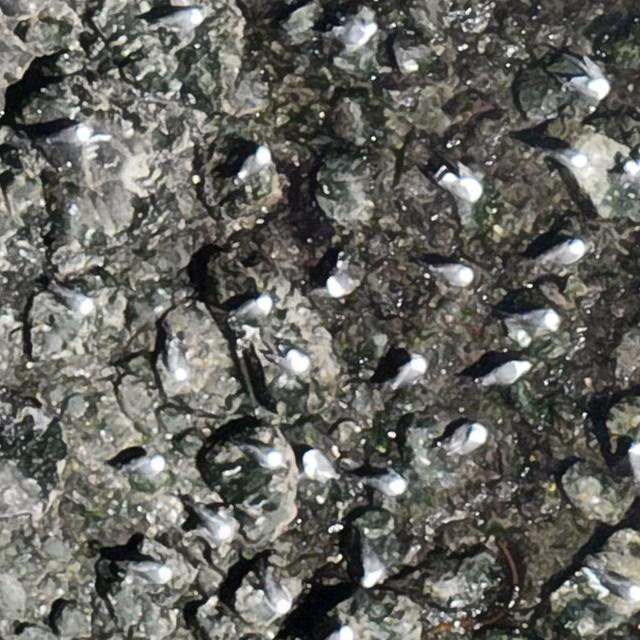umineko: (441, 422, 489, 460), (328, 258, 363, 304), (302, 450, 343, 486), (438, 166, 482, 199), (243, 440, 287, 468), (364, 467, 403, 496), (56, 287, 94, 316), (361, 536, 382, 588), (195, 514, 233, 541), (50, 123, 89, 149), (263, 574, 289, 613), (238, 147, 270, 178), (484, 362, 528, 384), (543, 240, 584, 263), (168, 339, 190, 380), (548, 145, 589, 167), (394, 358, 424, 386), (161, 9, 202, 29), (436, 264, 472, 285), (570, 77, 606, 98), (235, 296, 269, 318), (608, 577, 640, 600), (518, 309, 556, 328), (281, 349, 309, 374), (128, 458, 163, 478), (138, 564, 172, 583)
